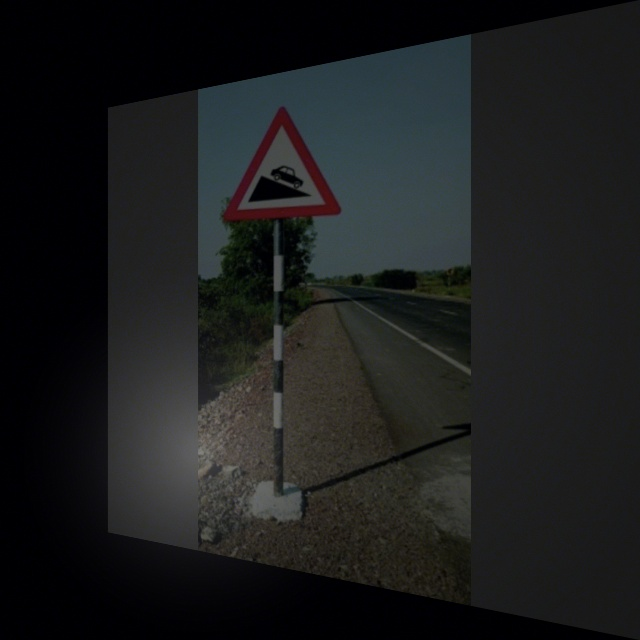Steep_Descent: (226, 98, 340, 228)
